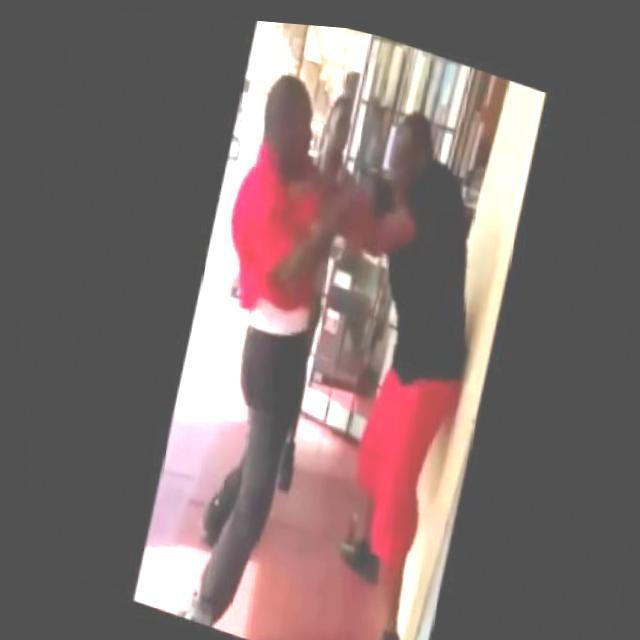fight: (122, 37, 496, 640)
